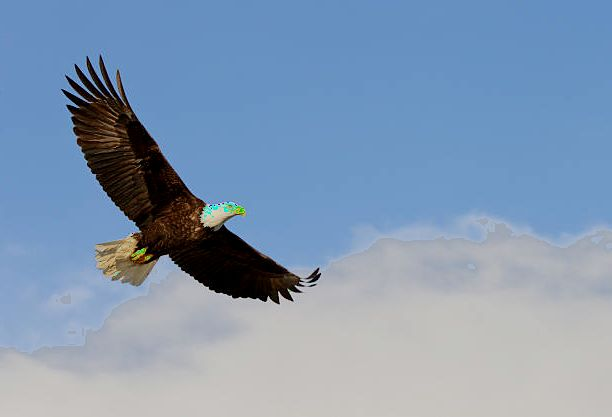Bird: (60, 51, 323, 307)
